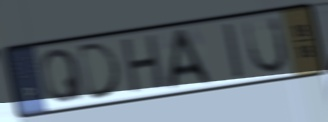A: (168, 26, 214, 93)
D: (76, 39, 125, 103)
H: (120, 32, 167, 97)
I: (221, 20, 247, 82)
Q: (39, 47, 87, 106)
U: (241, 13, 290, 76)
